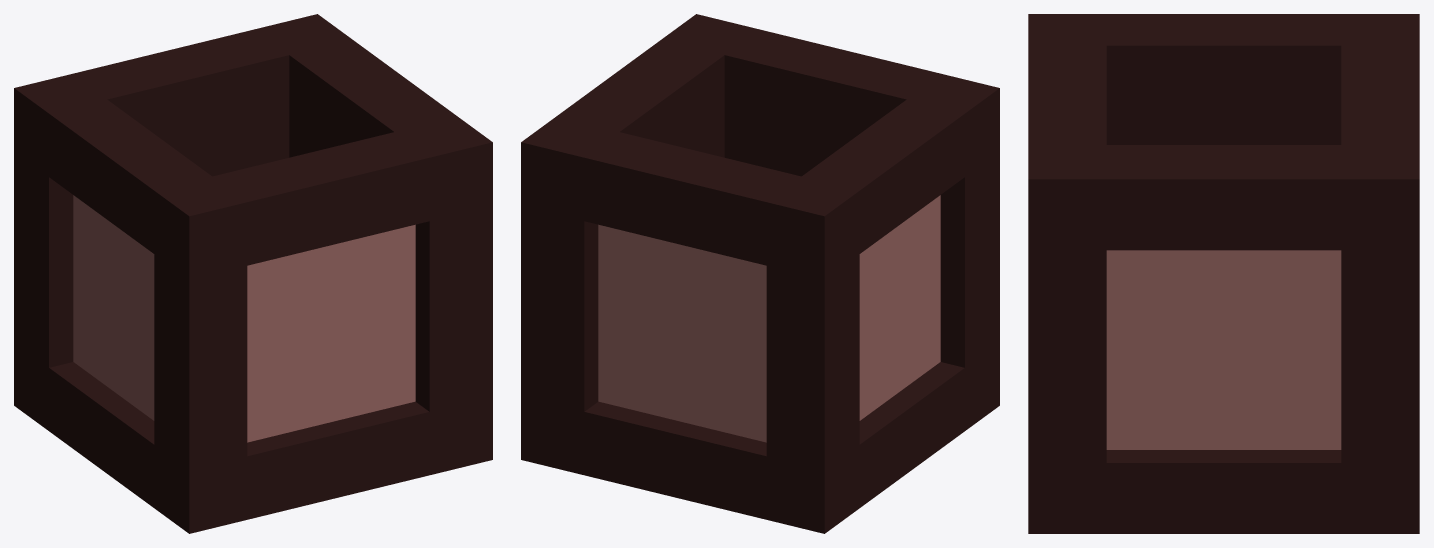
File: OpenBox.fbx
The picture shows the model from 3 angles, left to right: view 1: azimuth 30°, elevation 25°; view 2: azimuth 150°, elevation 25°; view 3: azimuth 270°, elevation 25°; orthographic projection. The views are drawn at different scales.
Visible parts, largest first — view 1: OpenBox; view 2: OpenBox; view 3: OpenBox.
Boxes of the visible parts, x1,y1,x2,y2 form: OpenBox: (14, 14, 492, 533); OpenBox: (521, 14, 999, 533); OpenBox: (1028, 14, 1419, 533).
Size of the model in its own units: 125 by 125 by 125.
